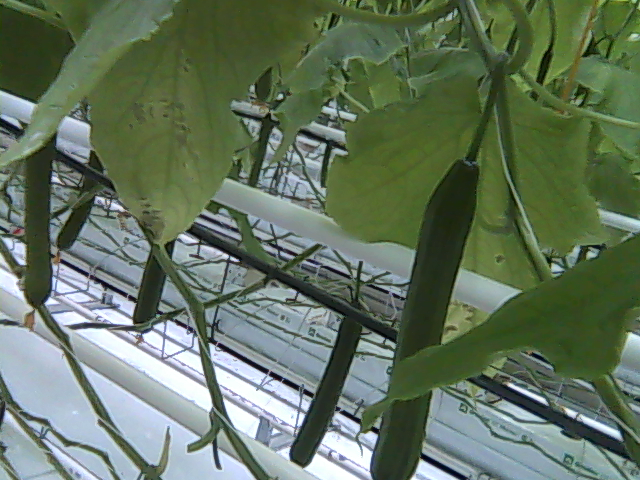concombre: (362, 138, 488, 480)
